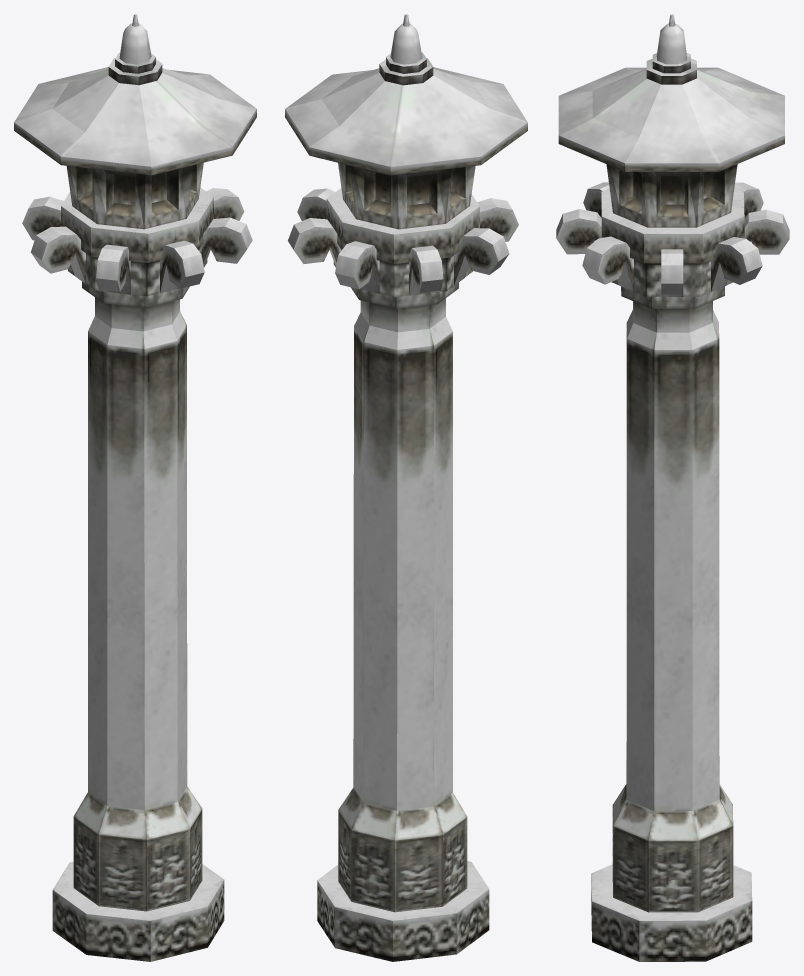
File: nsm-018-stonelight.fbx
3 renders of one model, left to right at view 1: azimuth 30°, elevation 25°; view 2: azimuth 150°, elevation 25°; view 3: azimuth 270°, elevation 25°, orthographic.
Parts seen in each view (by area): view 1: Cone20; view 2: Cone20; view 3: Cone20.
Part boxes in pixels (box(x1,y1,x2,y2)): Cone20: box(14, 14, 256, 961); Cone20: box(285, 14, 527, 961); Cone20: box(556, 14, 789, 961).
Size of the model in its own units: 2.05 by 8.85 by 2.05.
